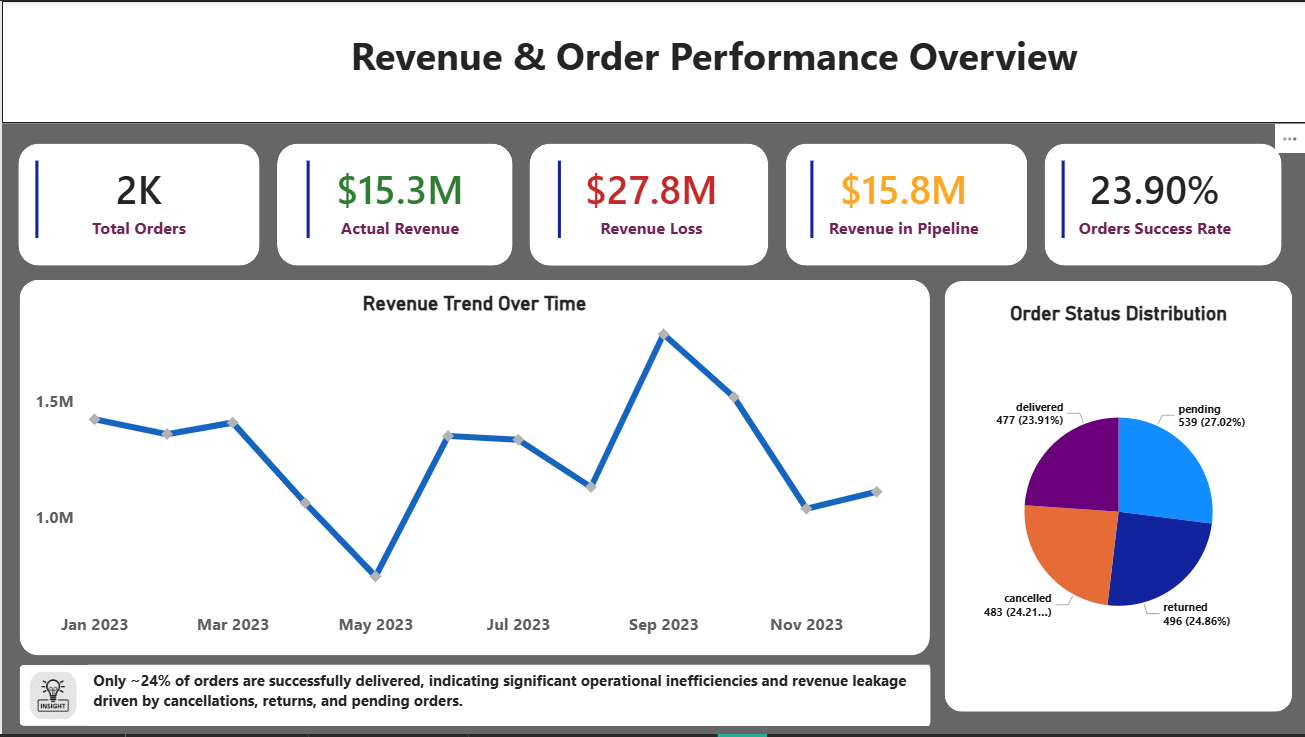

The page's visual inventory and layout, read from the dashboard file:
{"tool":"powerbi","page":{"name":"Executive Overview","canvas":[1280,720],"ordinal":0},"visuals":[{"type":"shape","title":"Revenue & Order Performance Overview","box":[0,0,1280,120],"z":1000},{"type":"textbox","box":[337.1,22.9,774.3,74.3],"z":2000},{"type":"shape","title":"Revenue & Order Performance Overview","box":[518,140,234.3,120],"z":3000},{"type":"shape","title":"Revenue & Order Performance Overview","box":[16,140,237.1,120],"z":4000},{"type":"cardVisual","fields":{"Data":["sales_clean.Total Orders"]},"box":[16,140,237.1,110],"z":5000},{"type":"shape","title":"Revenue & Order Performance Overview","box":[269.9,140,231.4,120],"z":6000},{"type":"shape","title":"Revenue & Order Performance Overview","box":[769,140,237.1,120],"z":7000},{"type":"cardVisual","fields":{"Data":["sales_clean.Pending Revenue"]},"box":[776.1,140,217.1,110],"z":8000},{"type":"cardVisual","fields":{"Data":["sales_clean.Lost Revenue"]},"box":[529.4,140,217.1,110],"z":9000},{"type":"shape","title":"Revenue & Order Performance Overview","box":[1022.9,140,232.9,120],"z":10000},{"type":"cardVisual","fields":{"Data":["sales_clean.Success Rate"]},"box":[1022.9,140,217.1,110],"z":11000},{"type":"cardVisual","fields":{"Data":["Sum(sales_clean.actual_revenue)"]},"box":[282.7,140,217.1,110],"z":12000},{"type":"shape","title":"Revenue & Order Performance Overview","box":[17.5,273.8,893.8,368.8],"z":13000},{"type":"lineChart","title":"Revenue Trend Over Time","fields":{"Y":["Sum(sales_clean.actual_revenue)"],"Category":["sales_clean.purchase_date.Variation.Date Hierarchy.Year","sales_clean.purchase_date.Variation.Date Hierarchy.Month"]},"box":[27.5,286.2,873.8,347.5],"z":14000},{"type":"shape","title":"Revenue & Order Performance Overview","box":[17.2,651.5,894.5,60.1],"z":15000},{"type":"shape","title":"Revenue & Order Performance Overview","box":[925.7,274.3,341.4,422.9],"z":16000},{"type":"pieChart","title":"Order Status Distribution","fields":{"Category":["sales_clean.status"],"Y":["CountNonNull(sales_clean.transaction_id)"]},"box":[935.7,295.7,320,390],"z":17000},{"type":"image","box":[27,657.7,46.6,47.9],"z":18000},{"type":"textbox","box":[84.7,651.5,825.8,60.1],"z":19000}]}

Visuals, with their boxes in screenshot pixels (x1, y1, x2, y2), scaled from the page's 1280x720 canvas onto the 1305x737 screenshot:
"Revenue & Order Performance Overview" shape: bbox(0, 0, 1304, 123)
textbox: bbox(344, 23, 1133, 99)
"Revenue & Order Performance Overview" shape: bbox(528, 143, 767, 266)
"Revenue & Order Performance Overview" shape: bbox(16, 143, 258, 266)
cardVisual - sales_clean.Total Orders: bbox(16, 143, 258, 256)
"Revenue & Order Performance Overview" shape: bbox(275, 143, 511, 266)
"Revenue & Order Performance Overview" shape: bbox(784, 143, 1026, 266)
cardVisual - sales_clean.Pending Revenue: bbox(791, 143, 1013, 256)
cardVisual - sales_clean.Lost Revenue: bbox(540, 143, 761, 256)
"Revenue & Order Performance Overview" shape: bbox(1043, 143, 1280, 266)
cardVisual - sales_clean.Success Rate: bbox(1043, 143, 1264, 256)
cardVisual - Sum(sales_clean.actual_revenue): bbox(288, 143, 510, 256)
"Revenue & Order Performance Overview" shape: bbox(18, 280, 929, 658)
"Revenue Trend Over Time" lineChart: bbox(28, 293, 919, 649)
"Revenue & Order Performance Overview" shape: bbox(18, 667, 930, 728)
"Revenue & Order Performance Overview" shape: bbox(944, 281, 1292, 714)
"Order Status Distribution" pieChart: bbox(954, 303, 1280, 702)
image: bbox(28, 673, 75, 722)
textbox: bbox(86, 667, 928, 728)
